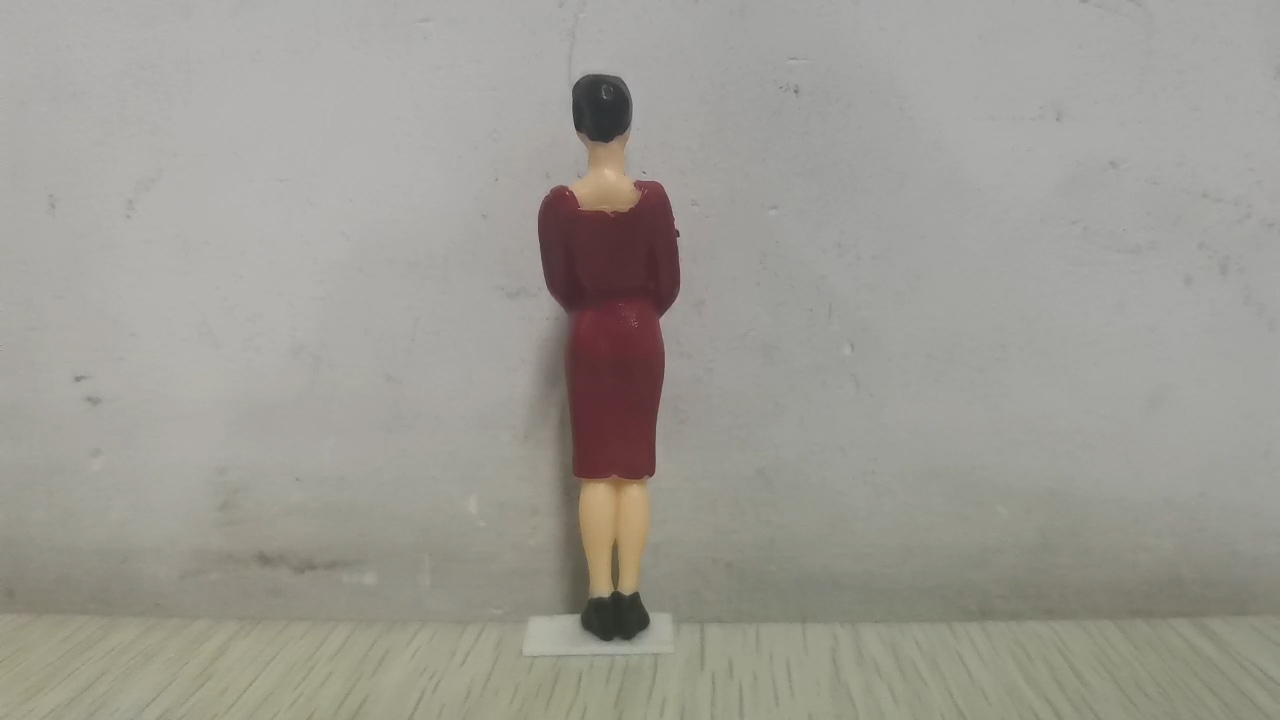person: (535, 72, 686, 644)
